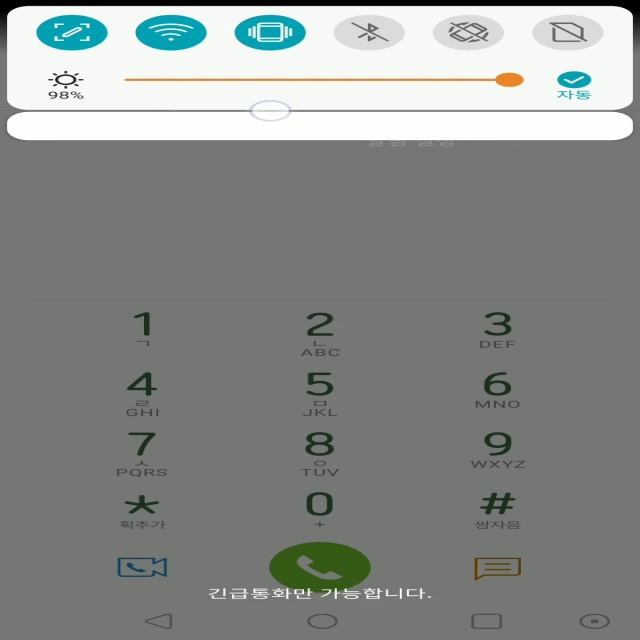Cursor: (249, 100, 294, 123)
